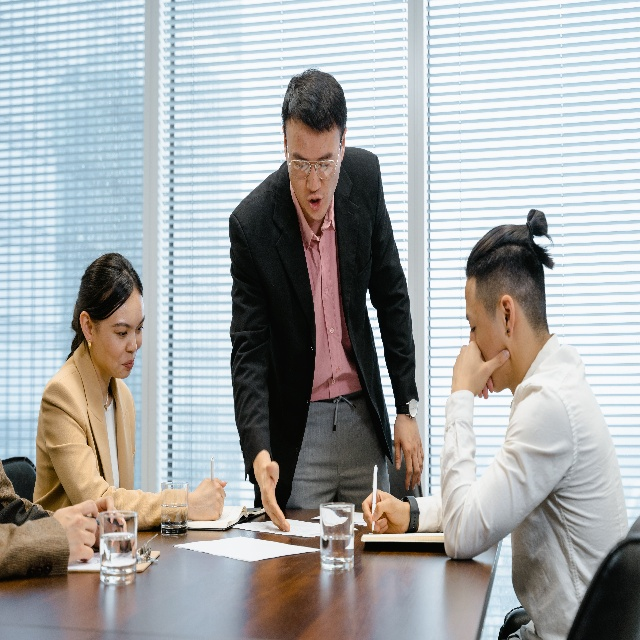Gafas: (286, 138, 341, 180)
Sin_guantes: (451, 342, 510, 400), (53, 499, 97, 563), (394, 413, 425, 493), (259, 460, 291, 532), (362, 489, 408, 533), (94, 494, 128, 550), (187, 478, 227, 521)
